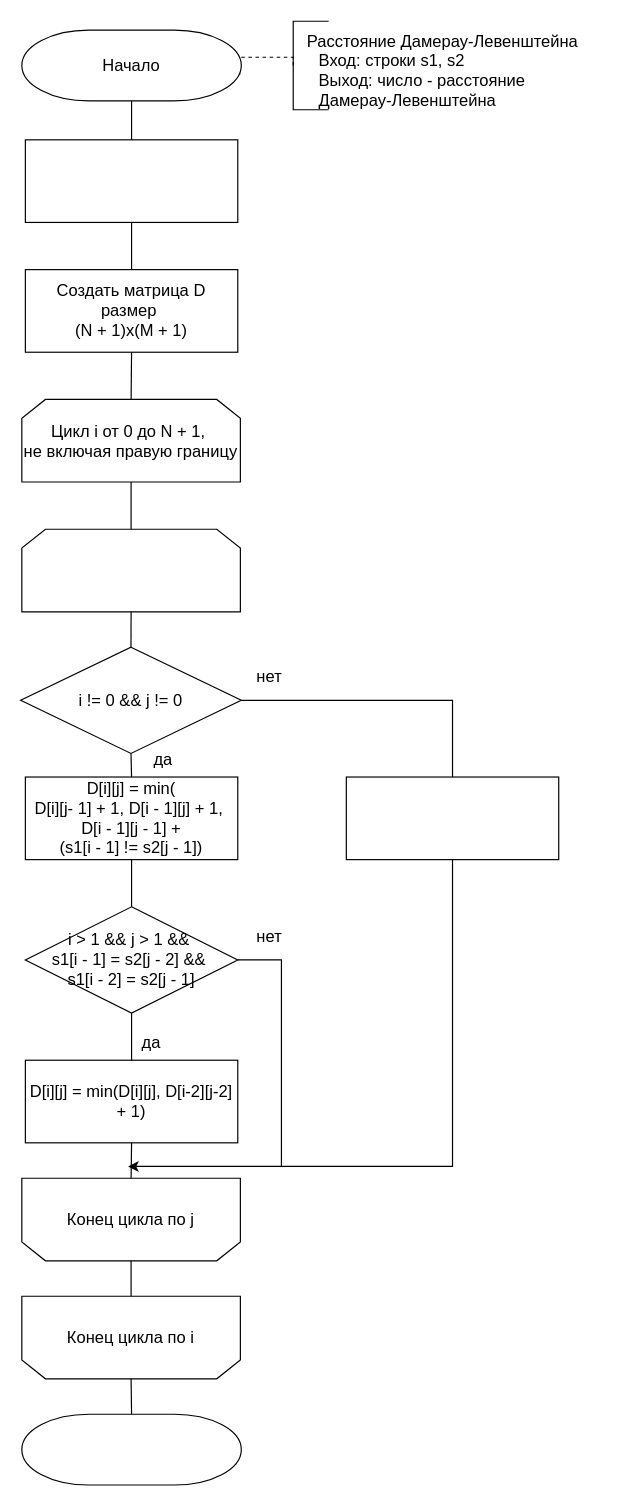
Image size: 621x1506. Some labels were removed from this diagram. Each missing label, with the centre of its shape:
"D[i][j] = max(i, j)" goes at pixel 452 818.
"N = len(s1) M = len(s2)" goes at pixel 131 180.
"Конец" goes at pixel 131 1449.
"Цикл j от 0 до M + 1, не включая правую границу" goes at pixel 130 570.
